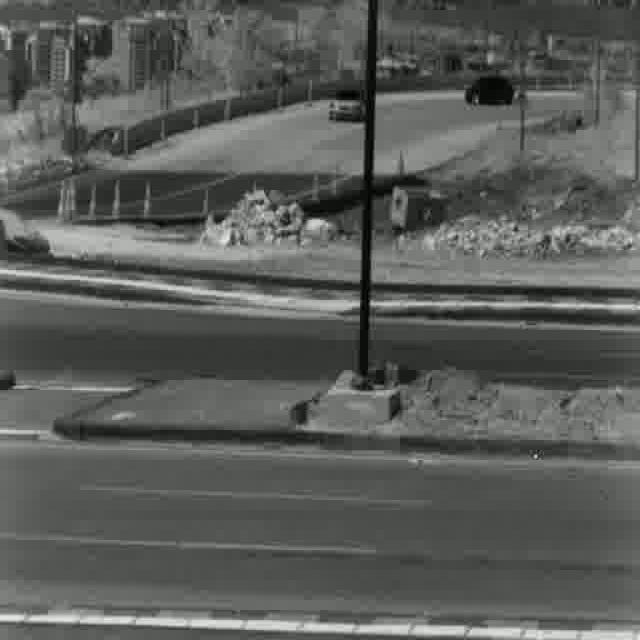Car: (465, 76, 523, 106), (330, 89, 367, 122)
